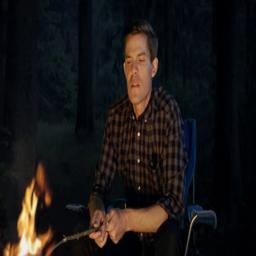fire: (4, 162, 52, 256)
